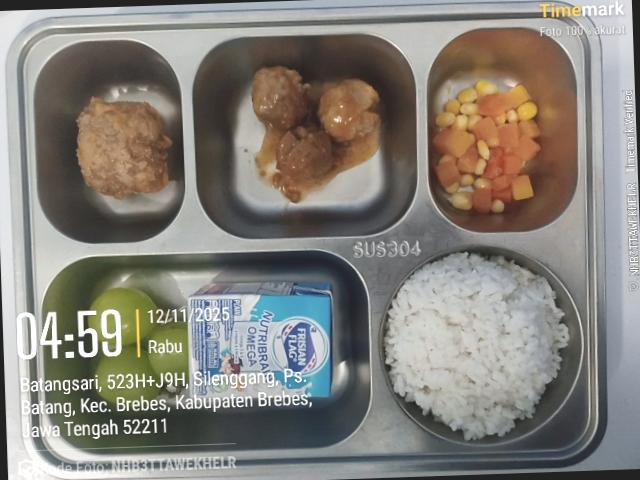bakso: (251, 66, 381, 202)
buah: (88, 288, 187, 406)
nasi: (385, 253, 569, 440)
sayur: (433, 80, 541, 213)
susu: (183, 282, 333, 397)
tahu: (77, 97, 171, 199)
